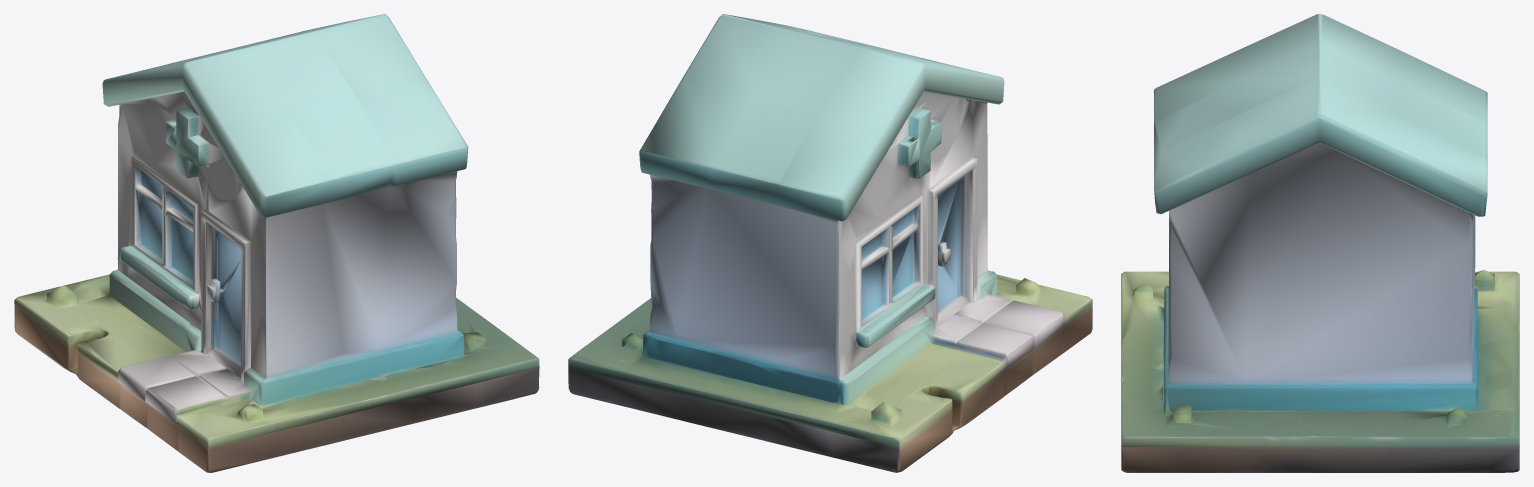
File: klinik.glb
3 renders of one model, left to right at view 1: azimuth 30°, elevation 25°; view 2: azimuth 150°, elevation 25°; view 3: azimuth 270°, elevation 25°, orthographic. The views are drawn at different scales.
Parts seen in each view (by area): view 1: node_0; view 2: node_0; view 3: node_0.
Boxes of the visible parts, x1,y1,x2,y2 form: node_0: (14, 14, 539, 472); node_0: (568, 14, 1092, 472); node_0: (1121, 14, 1519, 472).
Bounding box in the file's own units: 0.7161 × 0.6604 × 0.72.
Materials: 1 (1 with a texture image).
